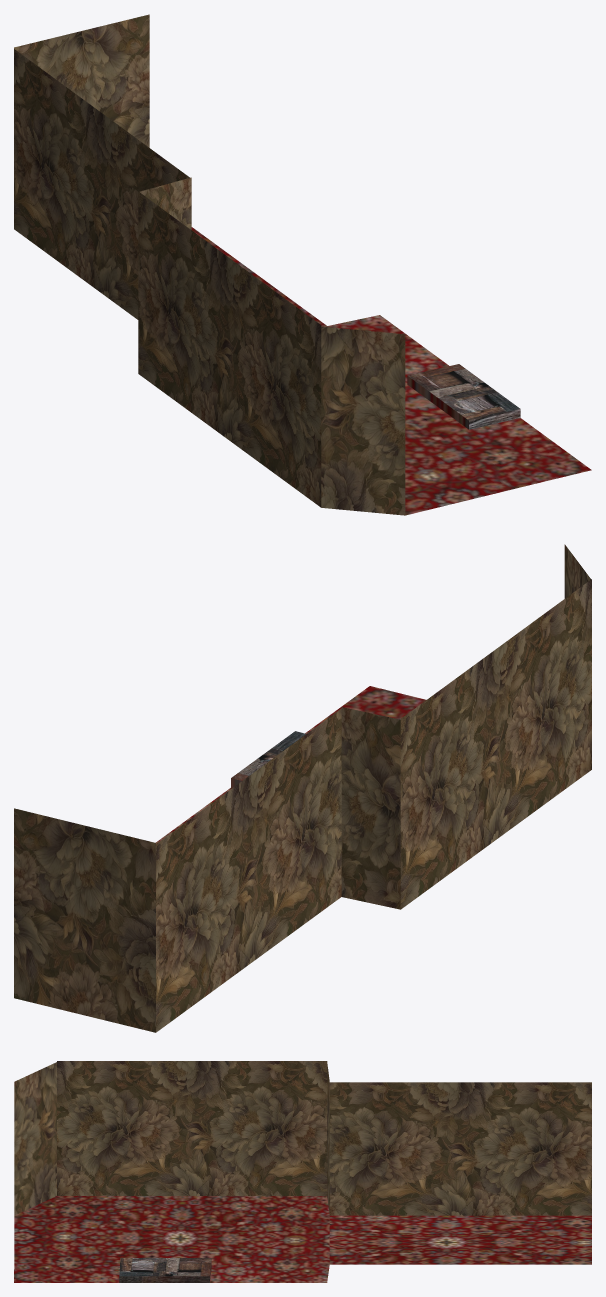
File: street2_room_1.fbx
3 renders of one model, top to bottom at view 1: azimuth 30°, elevation 25°; view 2: azimuth 150°, elevation 25°; view 3: azimuth 270°, elevation 25°, orthographic. The views are drawn at different scales.
Parts seen in each view (by area): view 1: Plane; view 2: Plane; view 3: Plane.
Boxes of the visible parts, box(x1,y1,x2,y2) form: Plane: box(14, 14, 591, 515); Plane: box(14, 544, 591, 1032); Plane: box(14, 1061, 591, 1282).
Bounding box in the file's own units: 479 × 346 × 1345.
